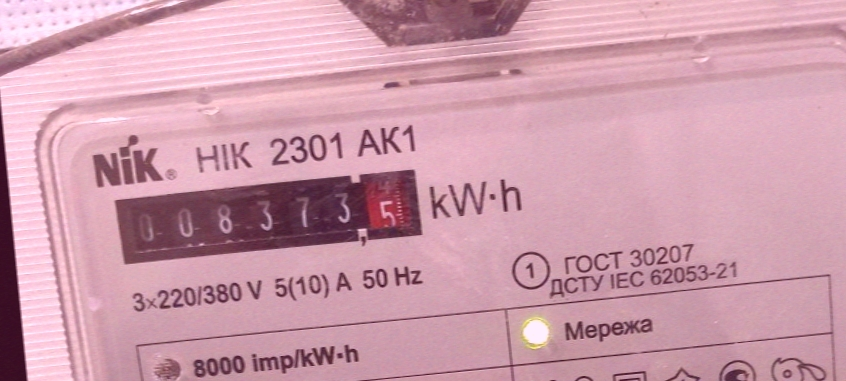0: (133, 207, 157, 245), (173, 202, 196, 240)
3: (329, 187, 355, 226), (252, 194, 276, 233)
4: (373, 175, 393, 196)
5: (377, 195, 398, 227)
7: (292, 190, 313, 230)
8: (212, 198, 236, 236)
screen: (108, 160, 431, 277)
